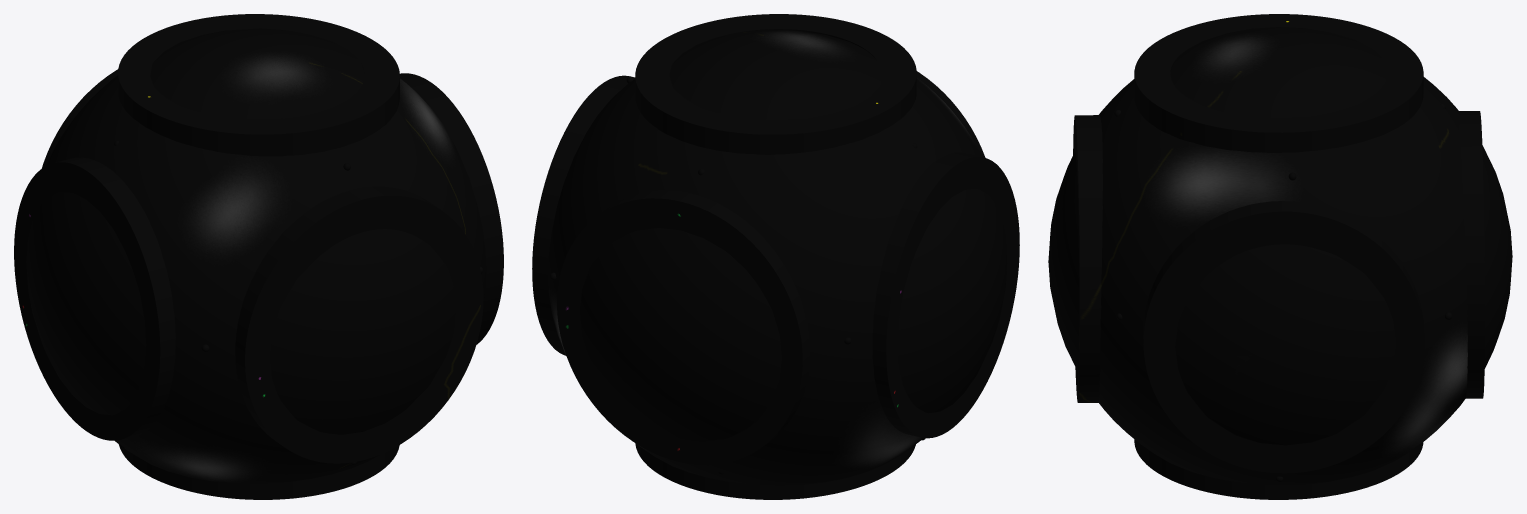
File: planet_database_club.glb
The picture shows the model from 3 angles, left to right: view 1: azimuth 30°, elevation 25°; view 2: azimuth 150°, elevation 25°; view 3: azimuth 270°, elevation 25°; orthographic projection.
Visible parts, largest first — view 1: node_id386_20; view 2: node_id386_20; view 3: node_id386_20.
Part boxes in pixels (x1=…): node_id386_20: x1=14, y1=14, x2=503, y2=499; node_id386_20: x1=532, y1=14, x2=1019, y2=499; node_id386_20: x1=1048, y1=14, x2=1512, y2=499.
Bounding box in the file's own units: 1.07 × 1.07 × 1.07.
6 materials, 6 textured.
